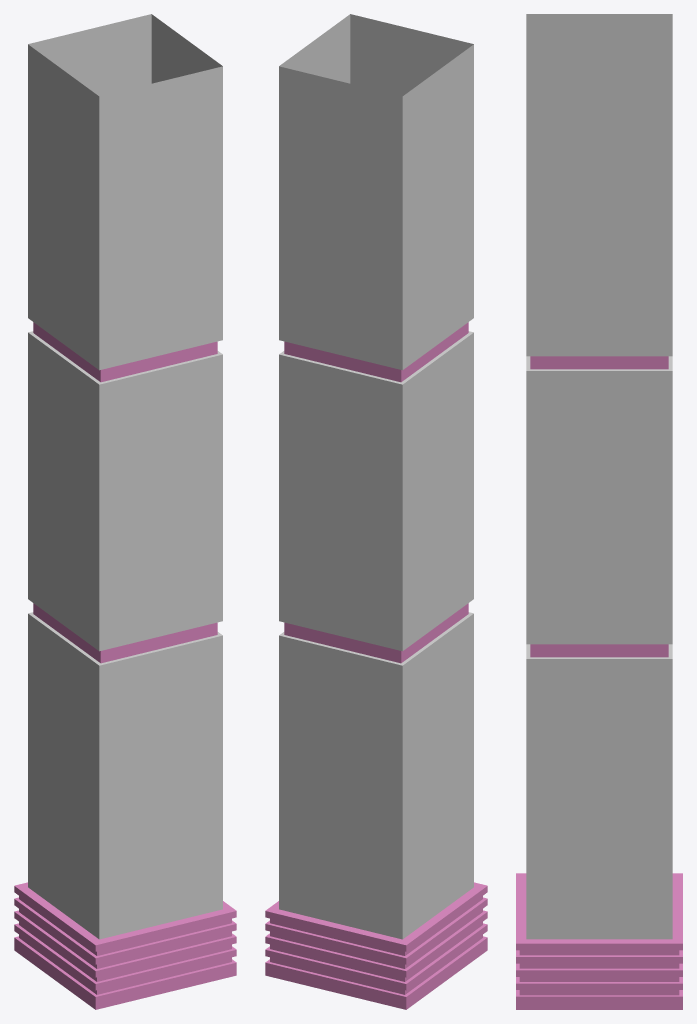
Rendered from PillarUV.fbx.
The picture shows the model from 3 angles, left to right: view 1: azimuth 30°, elevation 25°; view 2: azimuth 150°, elevation 25°; view 3: azimuth 270°, elevation 25°; orthographic projection. The views are drawn at different scales.
Parts seen in each view (by area): view 1: Cube.009; view 2: Cube.009; view 3: Cube.009.
Boxes of the visible parts, x1,y1,x2,y2 form: Cube.009: (14,14,236,1009); Cube.009: (265,14,487,1009); Cube.009: (516,14,682,1009).
Size of the model in its own units: 114 by 701 by 114.
